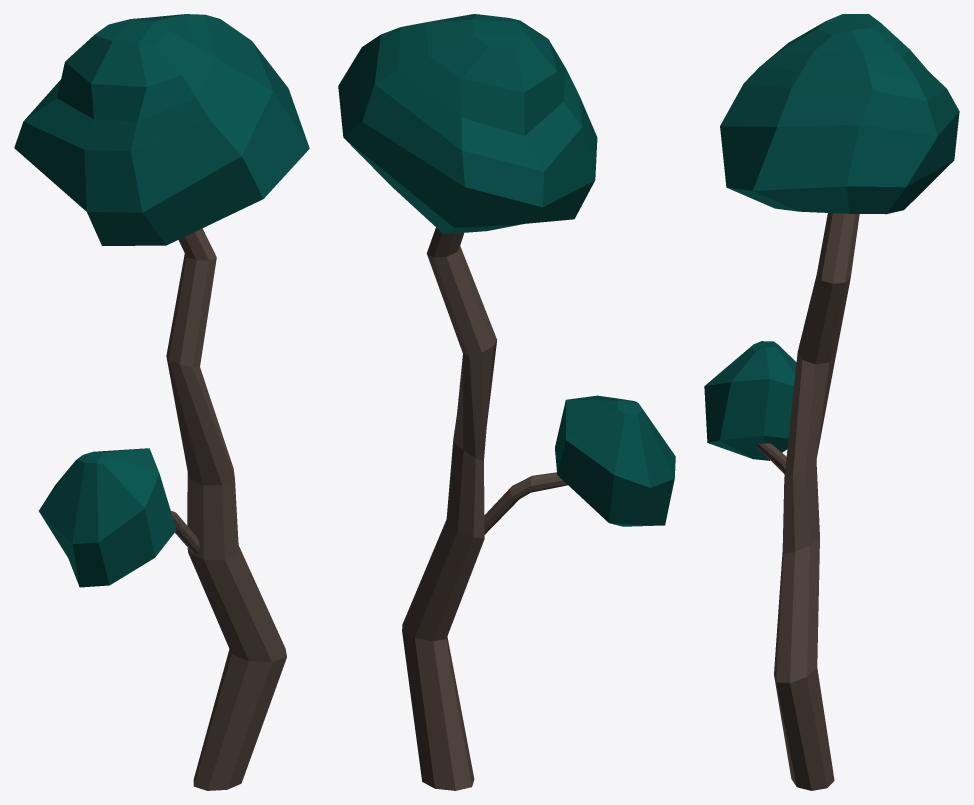
The model's file is Tree_8.fbx.
3 renders of one model, left to right at view 1: azimuth 30°, elevation 25°; view 2: azimuth 150°, elevation 25°; view 3: azimuth 270°, elevation 25°, orthographic. The views are drawn at different scales.
Parts seen in each view (by area): view 1: Tree_8; view 2: Tree_8; view 3: Tree_8.
Boxes of the visible parts, x1,y1,x2,y2 form: Tree_8: [14, 14, 309, 790]; Tree_8: [338, 14, 675, 790]; Tree_8: [704, 14, 959, 790].
Size of the model in its own units: 112 by 93.09 by 293.
